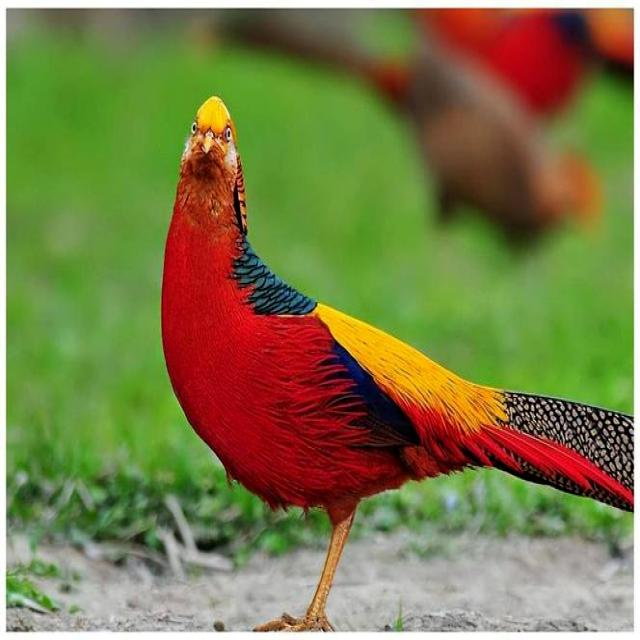Chrysolophus pictus feather: (467, 389, 634, 512)
